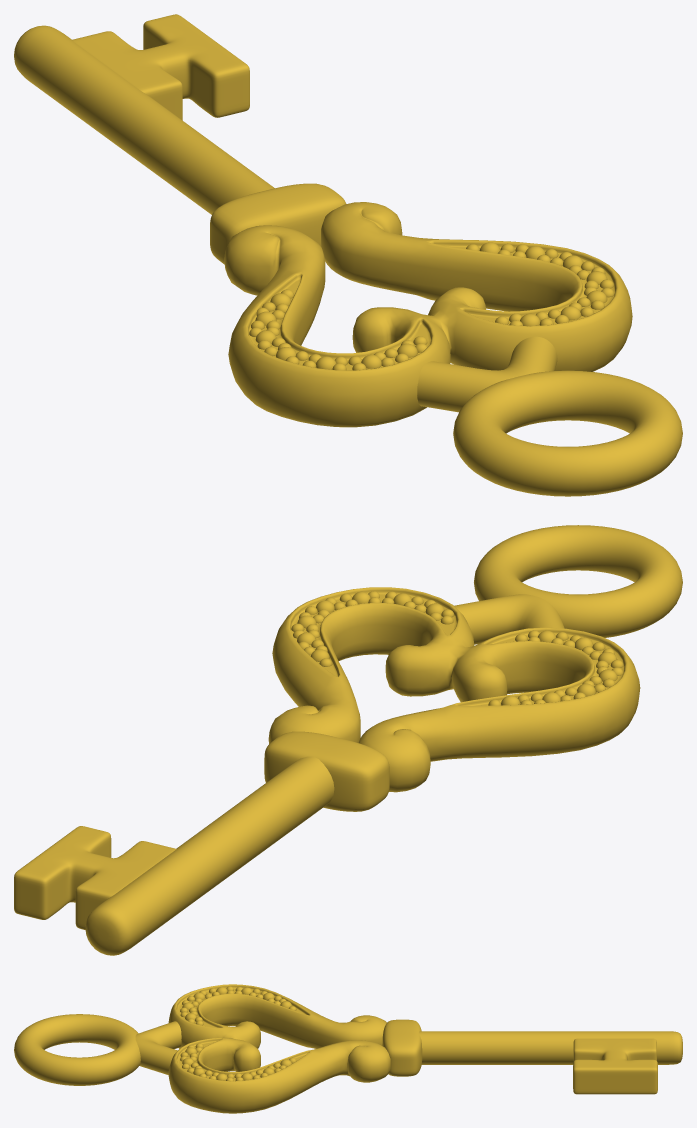
Rendered from key.glb.
3 views of the same model, one above another, from view 1: azimuth 30°, elevation 25°; view 2: azimuth 150°, elevation 25°; view 3: azimuth 270°, elevation 25° (orthographic). The views are drawn at different scales.
Parts seen in each view (by area): view 1: 21929_Key_v1; view 2: 21929_Key_v1; view 3: 21929_Key_v1.
Boxes of the visible parts, box(x1,y1,x2,y2) form: 21929_Key_v1: box(14, 14, 682, 496); 21929_Key_v1: box(14, 525, 682, 955); 21929_Key_v1: box(14, 984, 682, 1113).
Size of the model in its own units: 1.66 by 0.2667 by 4.52.
